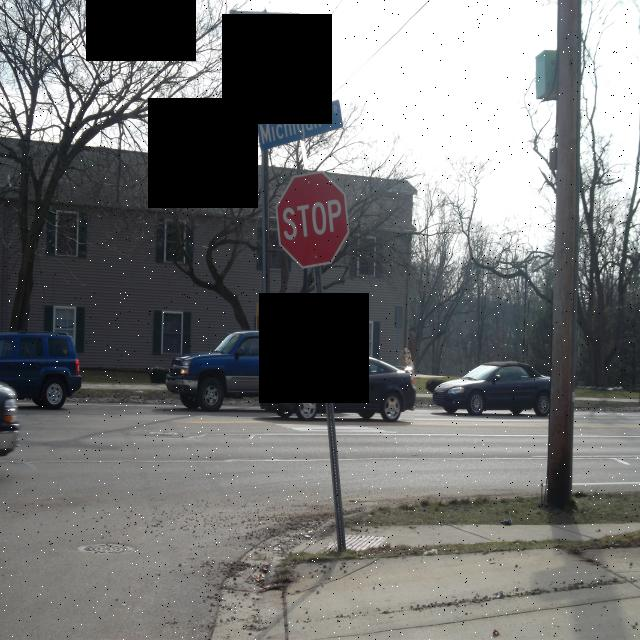stop: (275, 171, 351, 274)
